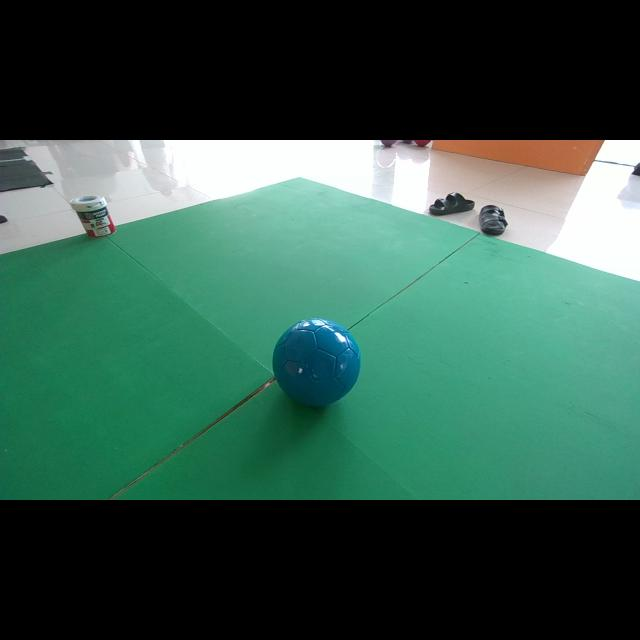B: (272, 318, 360, 406)
